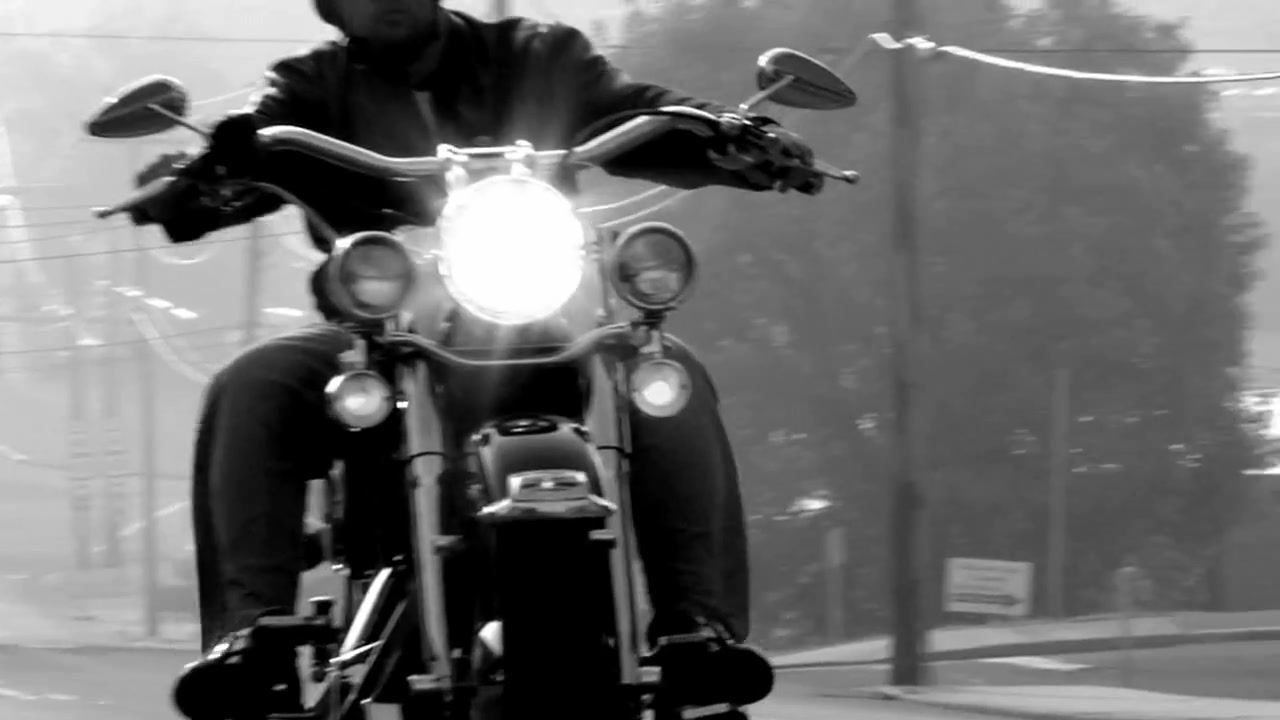motorbike: (86, 50, 861, 720)
